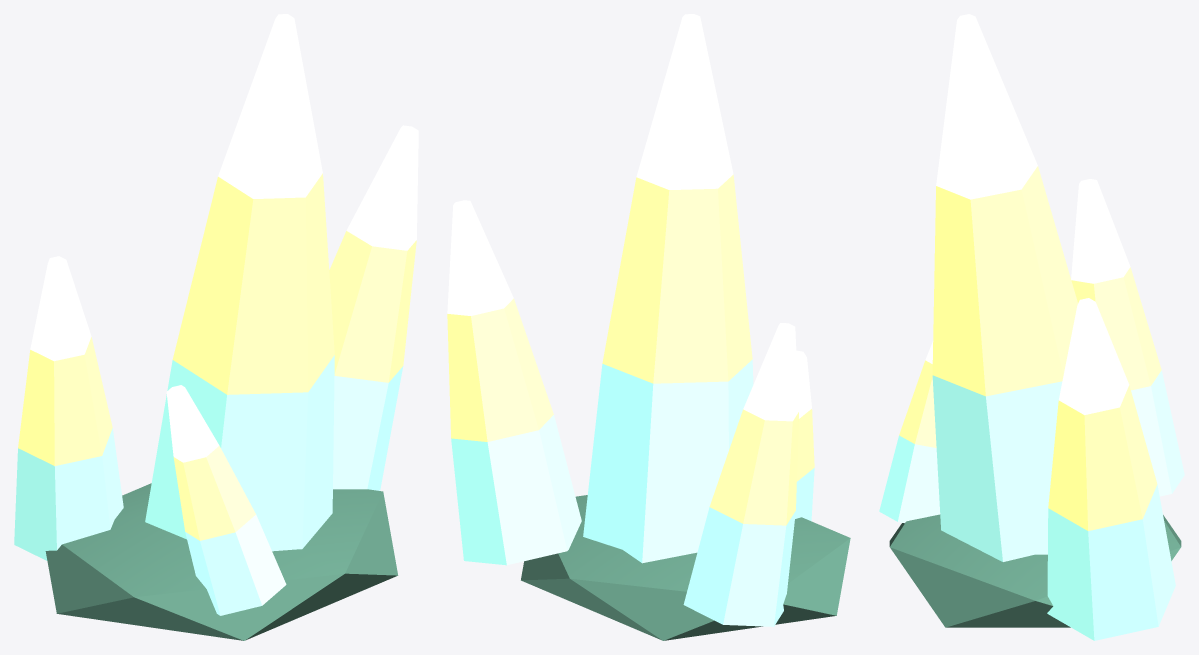
File: glimmerwood_glimmer_crystal.glb
3 views of the same model, side by side, from view 1: azimuth 30°, elevation 25°; view 2: azimuth 150°, elevation 25°; view 3: azimuth 270°, elevation 25° (orthographic). The views are drawn at different scales.
Parts seen in each view (by area): view 1: glimmerwood_glimmer_crystal; view 2: glimmerwood_glimmer_crystal; view 3: glimmerwood_glimmer_crystal.
Boxes of the visible parts, x1=… form: glimmerwood_glimmer_crystal: x1=14, y1=14, x2=418, y2=640; glimmerwood_glimmer_crystal: x1=447, y1=14, x2=850, y2=640; glimmerwood_glimmer_crystal: x1=879, y1=14, x2=1184, y2=640.
Size of the model in its own units: 0.4579 by 0.6807 by 0.3211.
